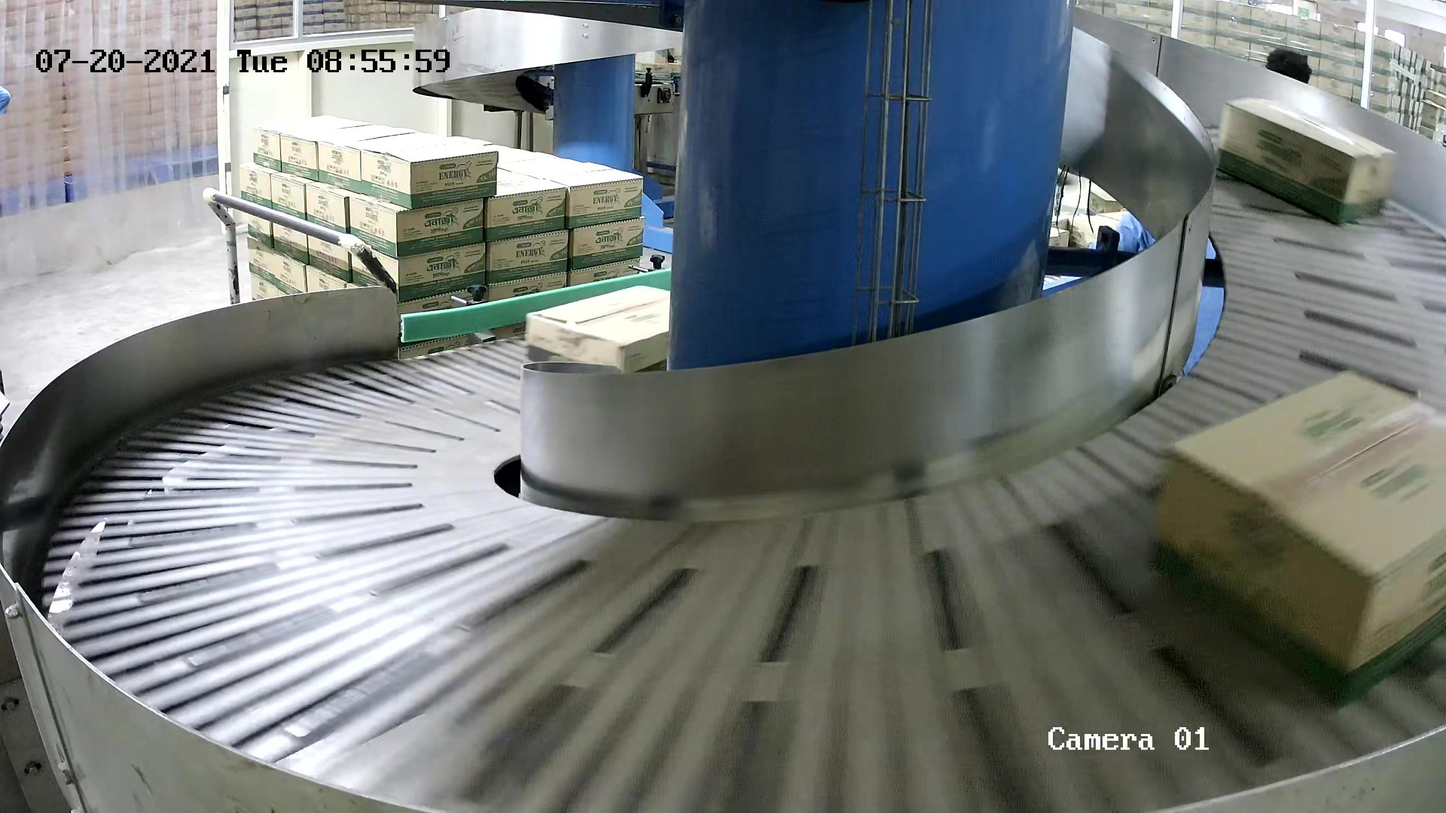Box: (1140, 363, 1446, 716), (1213, 97, 1404, 227), (524, 285, 716, 385)
